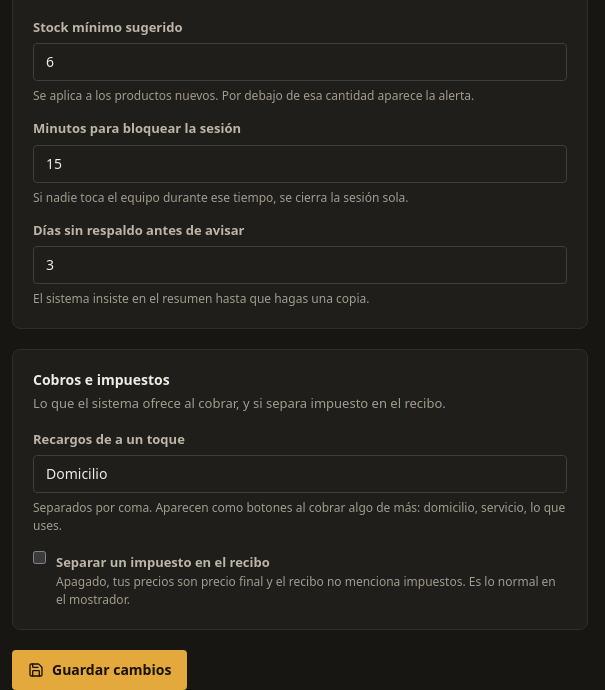
lo que no se puede guardar › un impuesto encendido necesita porcentaje y nombre
(page scrolled)
Click the checkbox.
click(40, 558)  # box left=33, top=551, right=46, bottom=564
(page scrolled)
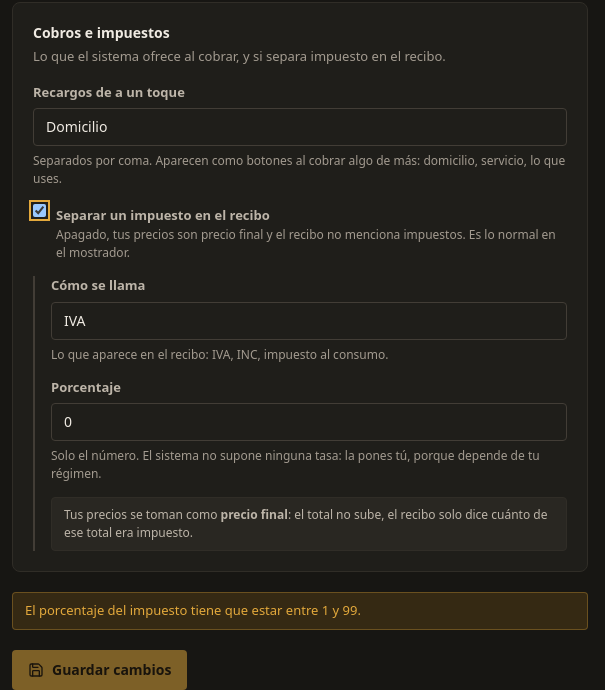
Expected: the button "Guardar cambios" is disabled, left=12, top=650, right=187, bottom=689
Expected: the text "El porcentaje del impuesto tiene que estar entre 1 y 99." is shown, left=12, top=592, right=588, bottom=630
Replace the text in the field labelled "Porcentaje" with "19" at [309, 422], box left=51, top=403, right=567, bottom=441
(page scrolled)
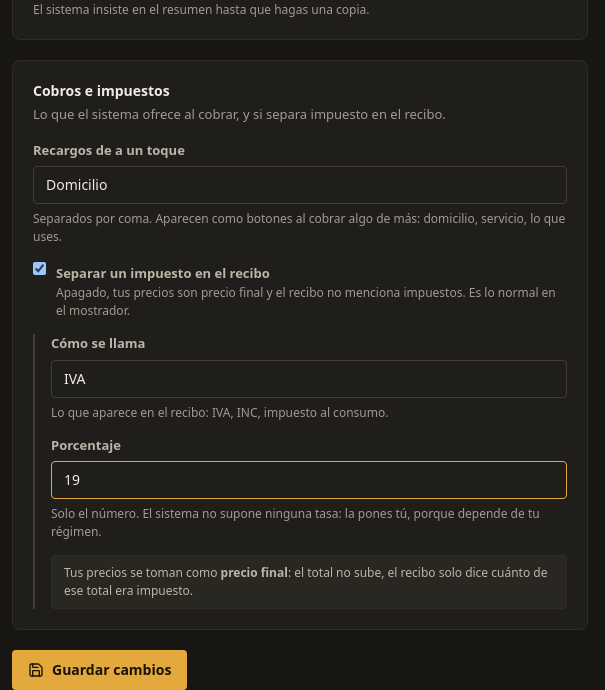
Expected: the button "Guardar cambios" is enabled, left=12, top=650, right=187, bottom=689
Clear the field labelled "Cómo se llama" at [309, 378], box left=51, top=360, right=567, bottom=398
(page scrolled)
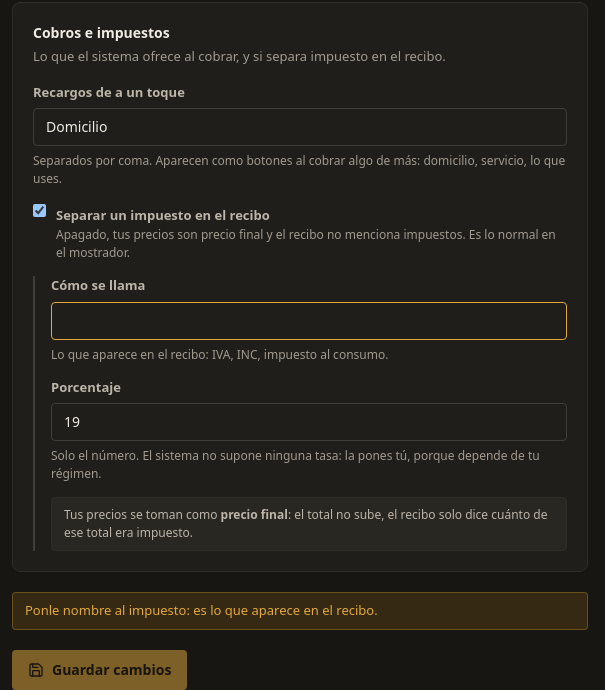
Expected: the button "Guardar cambios" is disabled, left=12, top=650, right=187, bottom=689
